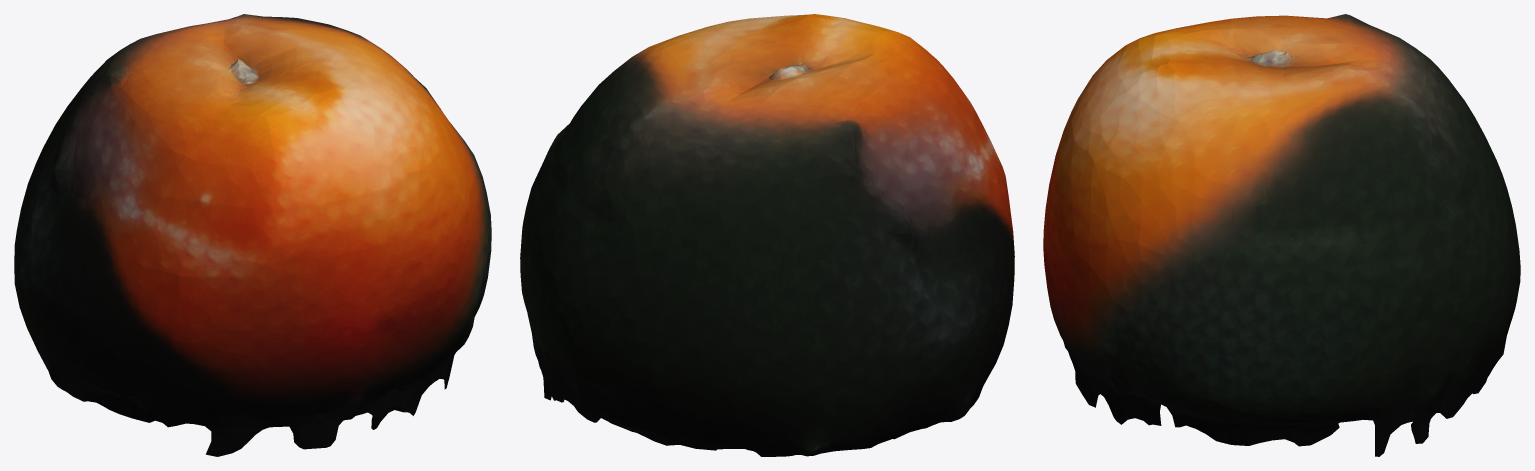
3 renders of one model, left to right at view 1: azimuth 30°, elevation 25°; view 2: azimuth 150°, elevation 25°; view 3: azimuth 270°, elevation 25°, orthographic. The views are drawn at different scales.
Parts seen in each view (by area): view 1: world; view 2: world; view 3: world.
Part boxes in pixels (x1,y1,x2,y2): world: (14,14,491,456); world: (520,14,1014,456); world: (1043,14,1520,456).
Size of the model in its own units: 0.4302 by 0.3144 by 0.4197.
Materials: 1 (1 with a texture image).
